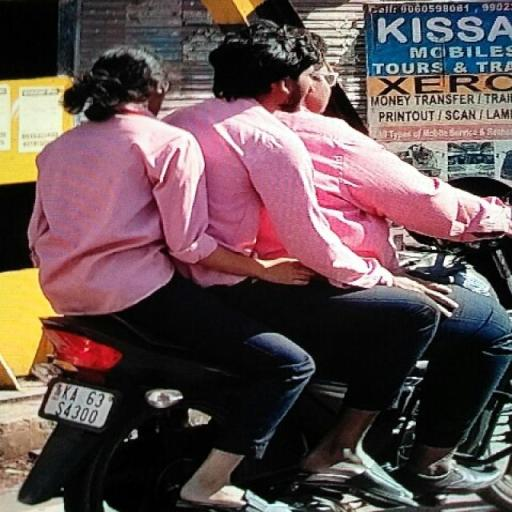tripple riding: (21, 14, 512, 334)
